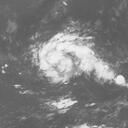cyclone: (37, 33, 114, 83)
